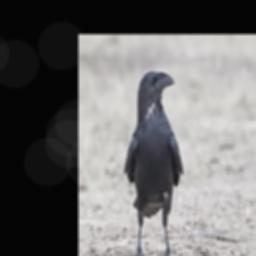Crow: (122, 69, 184, 256)
